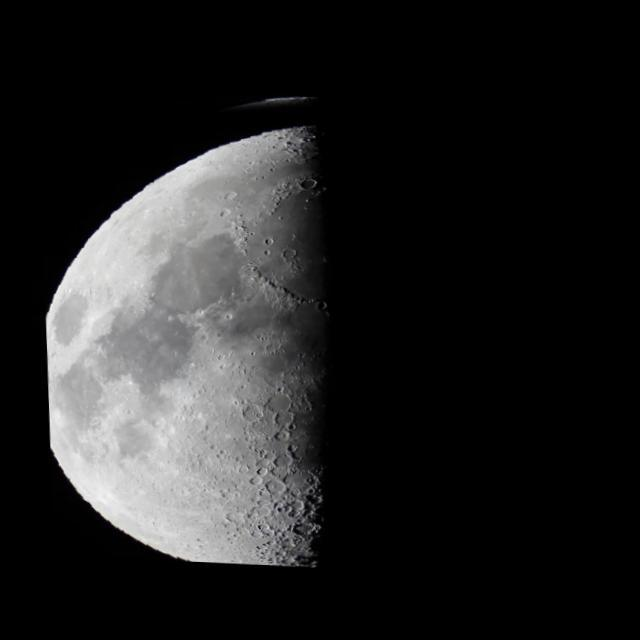moon: (27, 56, 630, 578)
